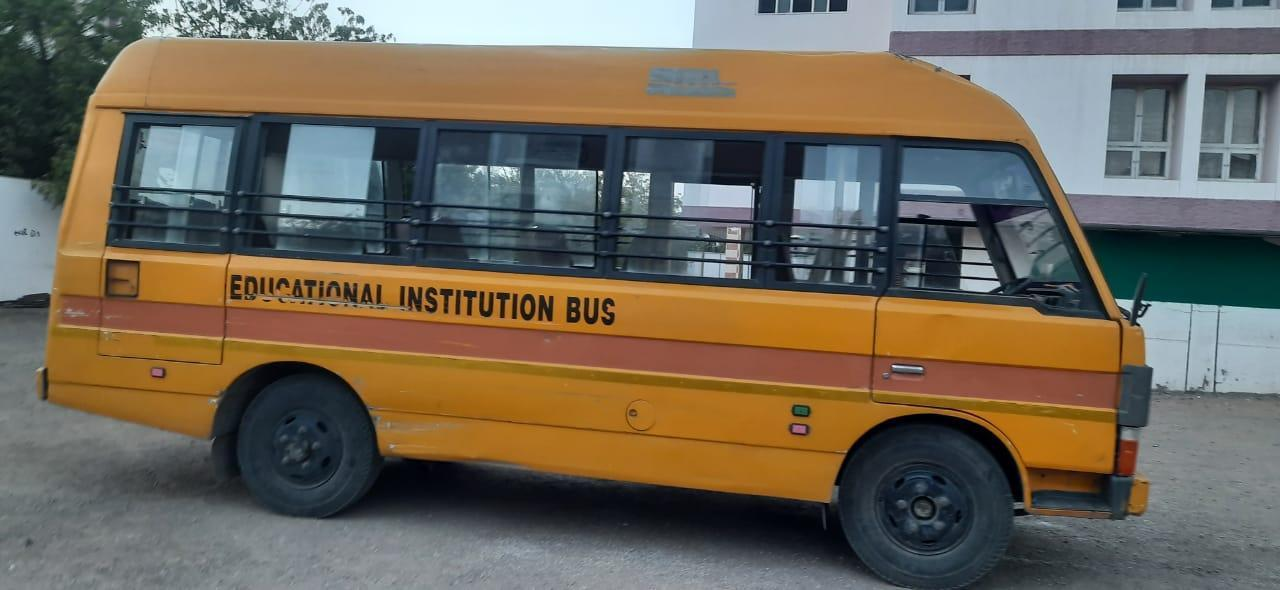Bus: (33, 22, 1176, 582)
